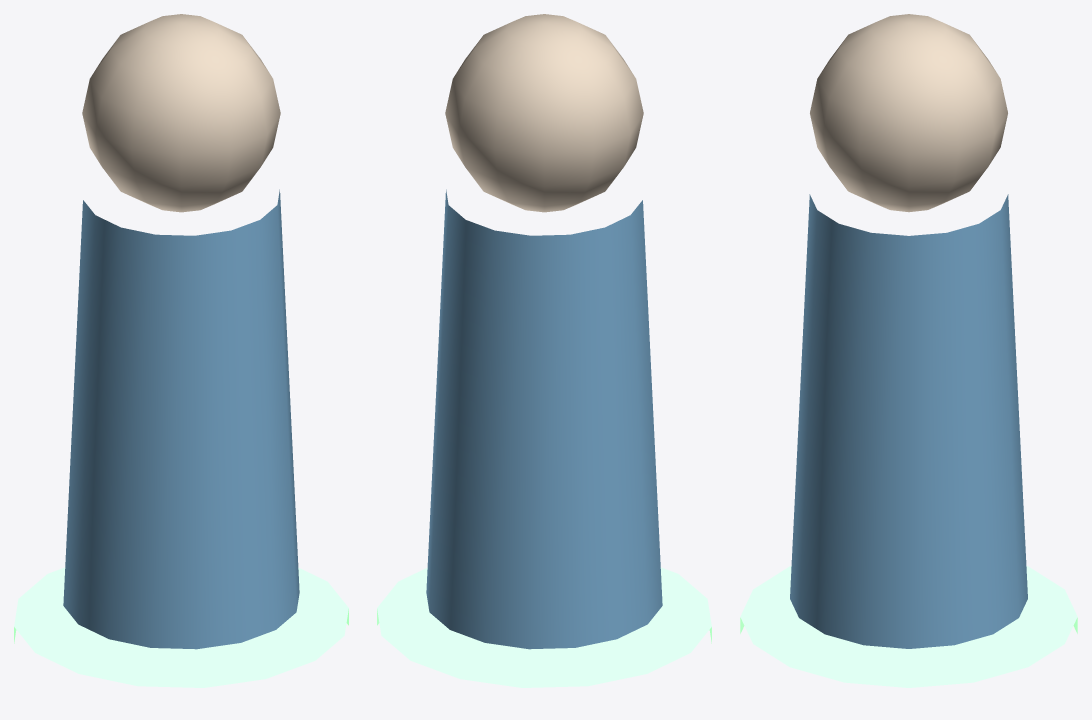
Rendered from model.player_spawn.glb.
The picture shows the model from 3 angles, left to right: view 1: azimuth 30°, elevation 25°; view 2: azimuth 150°, elevation 25°; view 3: azimuth 270°, elevation 25°; orthographic projection.
Visible parts, largest first — view 1: player_spawn; view 2: player_spawn; view 3: player_spawn.
Boxes of the visible parts, x1,y1,x2,y2 form: player_spawn: (14,14,348,687); player_spawn: (377,14,711,687); player_spawn: (740,14,1077,687).
Size of the model in its own units: 0.6802 by 1.36 by 0.6802.
